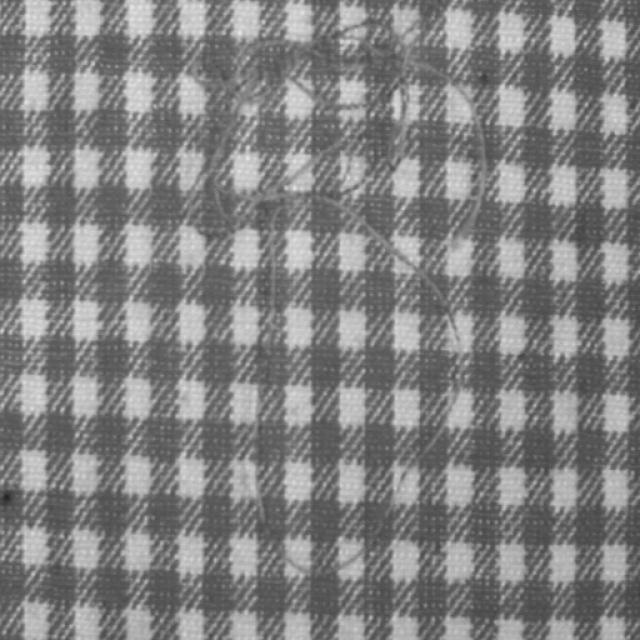Foreign-Body-Defect: (186, 20, 465, 579), (228, 106, 382, 239), (420, 60, 492, 248)
